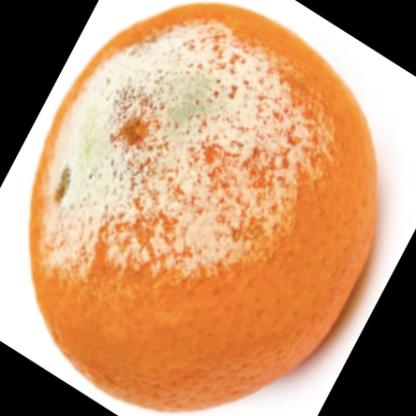rotten: (32, 6, 378, 409)
